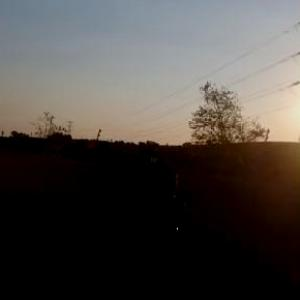follow: (130, 159, 189, 299)
